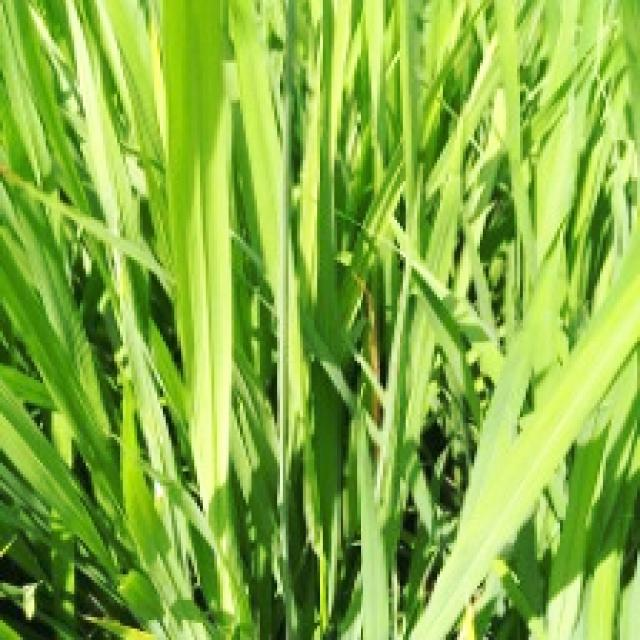health: (11, 1, 353, 640)
